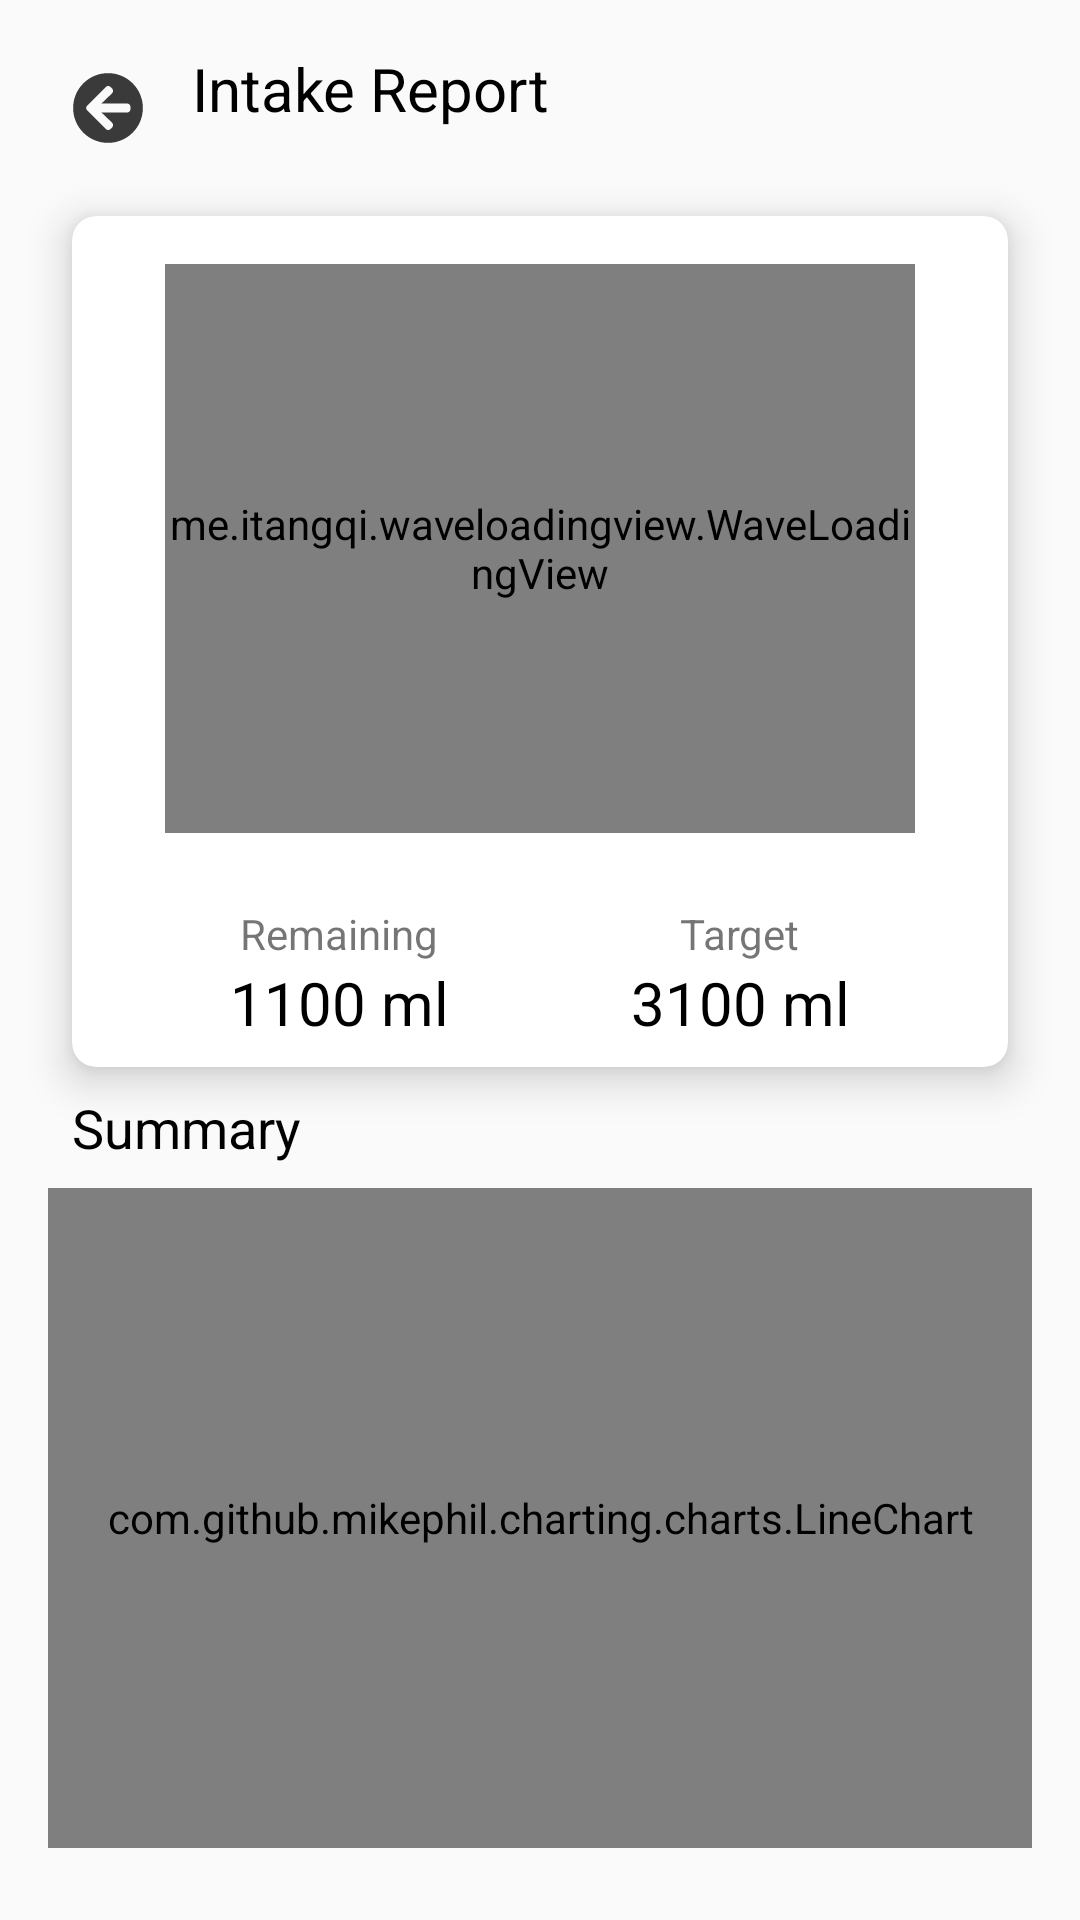

Icons on this 1080 × 1920 Android screen, each with its box as (x1, y1, x2, y2):
arrow circle left: (73, 73, 143, 143)
